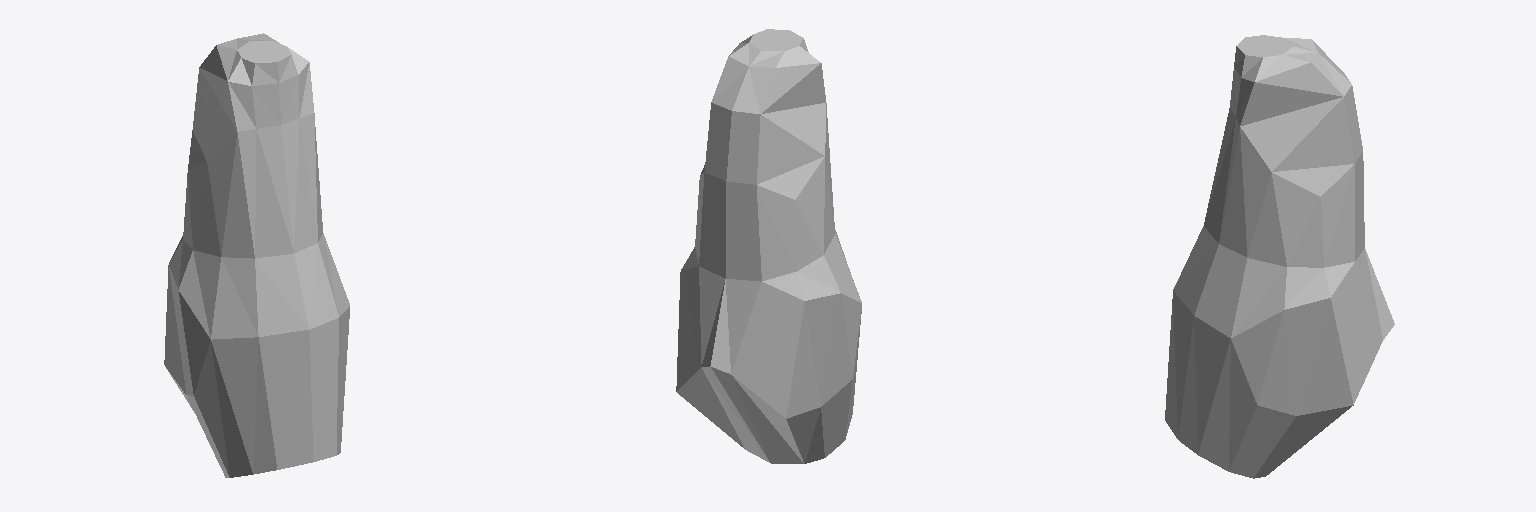
The model's file is corps.obj.
The picture shows the model from 3 angles: view 1: azimuth 30°, elevation 25°; view 2: azimuth 150°, elevation 25°; view 3: azimuth 270°, elevation 25°; orthographic projection.
Visible parts, largest first — view 1: corps_Wolf.010; view 2: corps_Wolf.010; view 3: corps_Wolf.010.
Boxes of the visible parts, x1,y1,x2,y2 form: corps_Wolf.010: [164, 33, 349, 477]; corps_Wolf.010: [676, 29, 861, 463]; corps_Wolf.010: [1165, 35, 1394, 478].
Bounding box in the file's own units: 20.01 × 53.25 × 26.49.